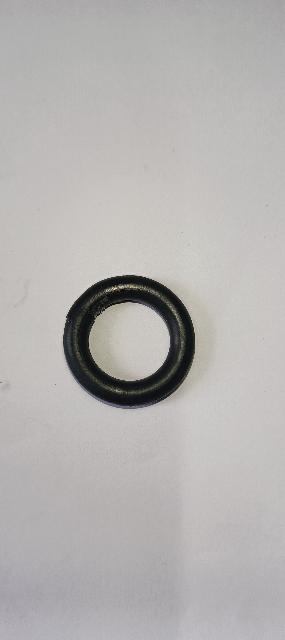crack: (76, 301, 96, 320)
scratch: (91, 297, 112, 317), (100, 286, 113, 304), (66, 317, 71, 320)
